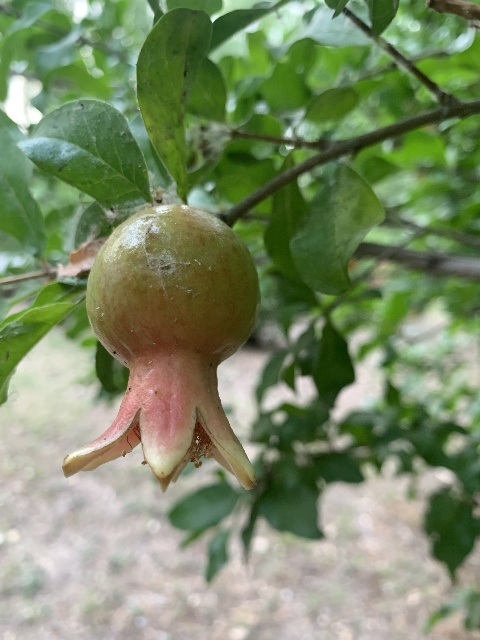mid-growth: (62, 205, 266, 494)
